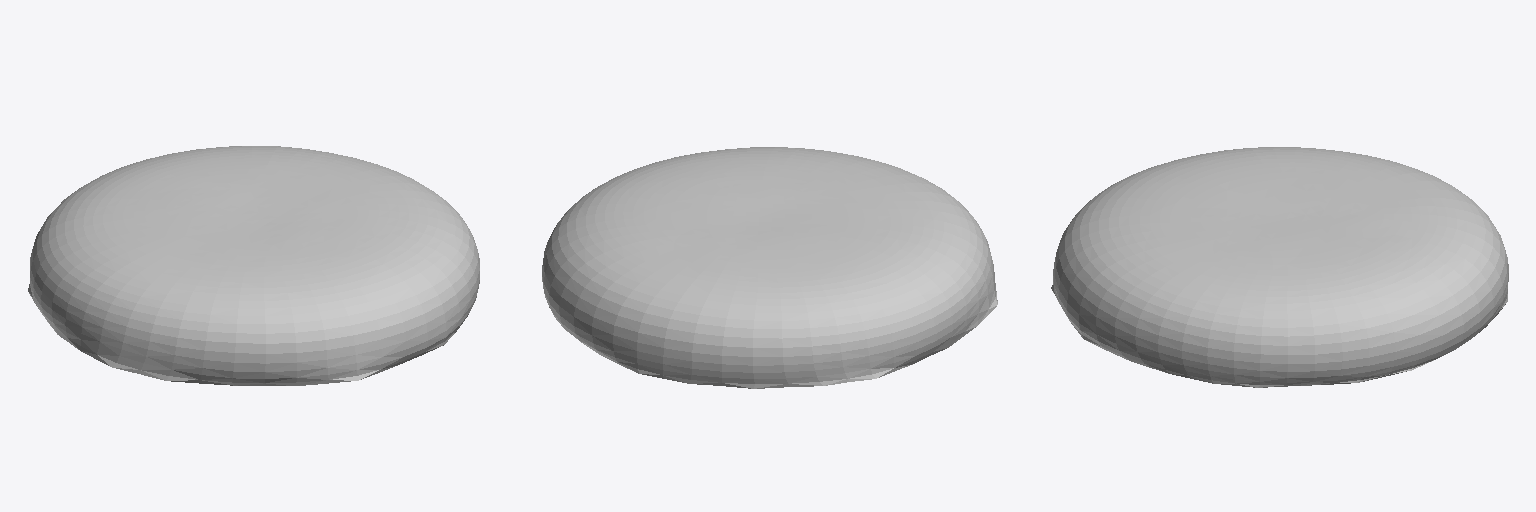
The model's file is Parte_abajo.obj.
3 views of the same model, side by side, from view 1: azimuth 30°, elevation 25°; view 2: azimuth 150°, elevation 25°; view 3: azimuth 270°, elevation 25° (orthographic).
Visible parts, largest first — view 1: polySurface8 Burger:Mesh; view 2: polySurface8 Burger:Mesh; view 3: polySurface8 Burger:Mesh.
Boxes of the visible parts, x1,y1,x2,y2 form: polySurface8 Burger:Mesh: [28, 146, 479, 385]; polySurface8 Burger:Mesh: [542, 147, 997, 388]; polySurface8 Burger:Mesh: [1051, 147, 1508, 387].
Bounding box in the file's own units: 3.49 × 0.6934 × 3.54.